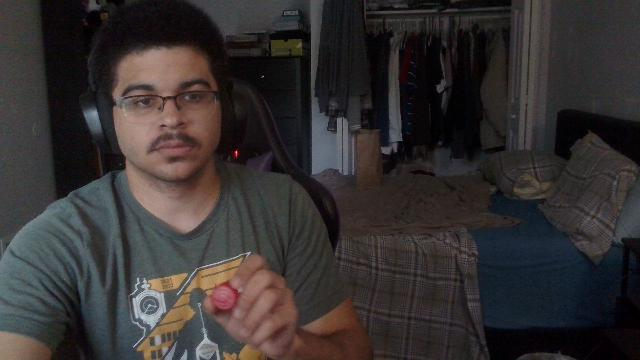cap: (212, 282, 238, 312)
